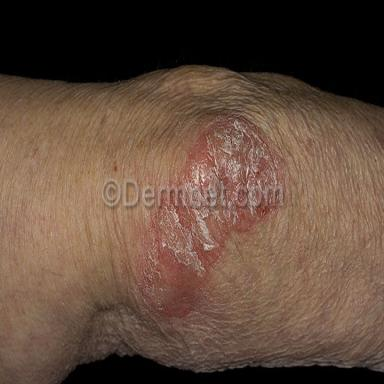Psoriasis: (136, 206, 277, 320), (172, 115, 285, 183)
